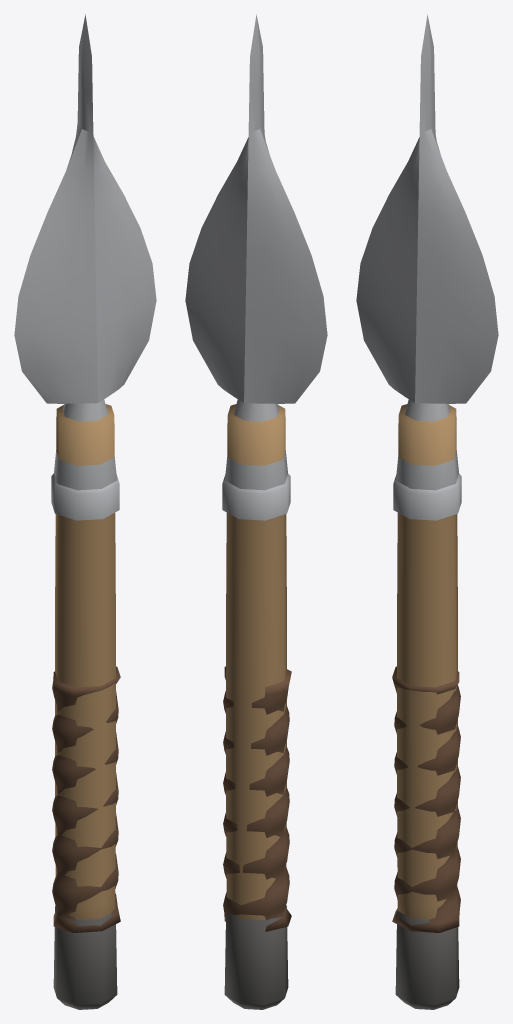
File: sanpkhang.glb
3 renders of one model, left to right at view 1: azimuth 30°, elevation 25°; view 2: azimuth 150°, elevation 25°; view 3: azimuth 330°, elevation 25°, orthographic.
Visible parts, largest first — view 1: sanpkhang; view 2: sanpkhang; view 3: sanpkhang.
Part boxes in pixels (left/top/right/bottom): sanpkhang: left=14, top=14, right=156, bottom=1009; sanpkhang: left=185, top=14, right=327, bottom=1009; sanpkhang: left=356, top=14, right=498, bottom=1009.
Size of the model in its own units: 0.1645 by 1.09 by 0.0708.
